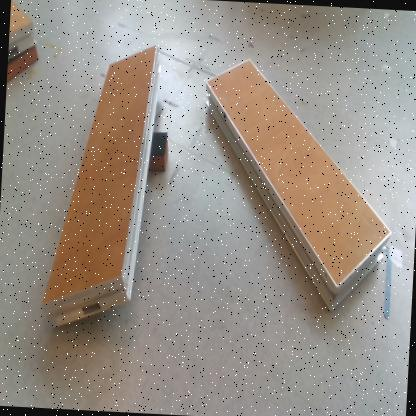Stairs: (205, 56, 395, 313), (40, 42, 163, 331), (8, 1, 39, 65)
